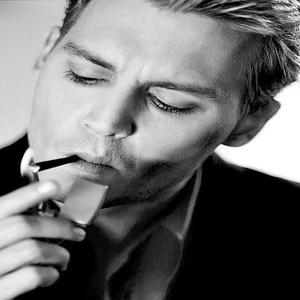cigarette: (23, 152, 81, 176)
